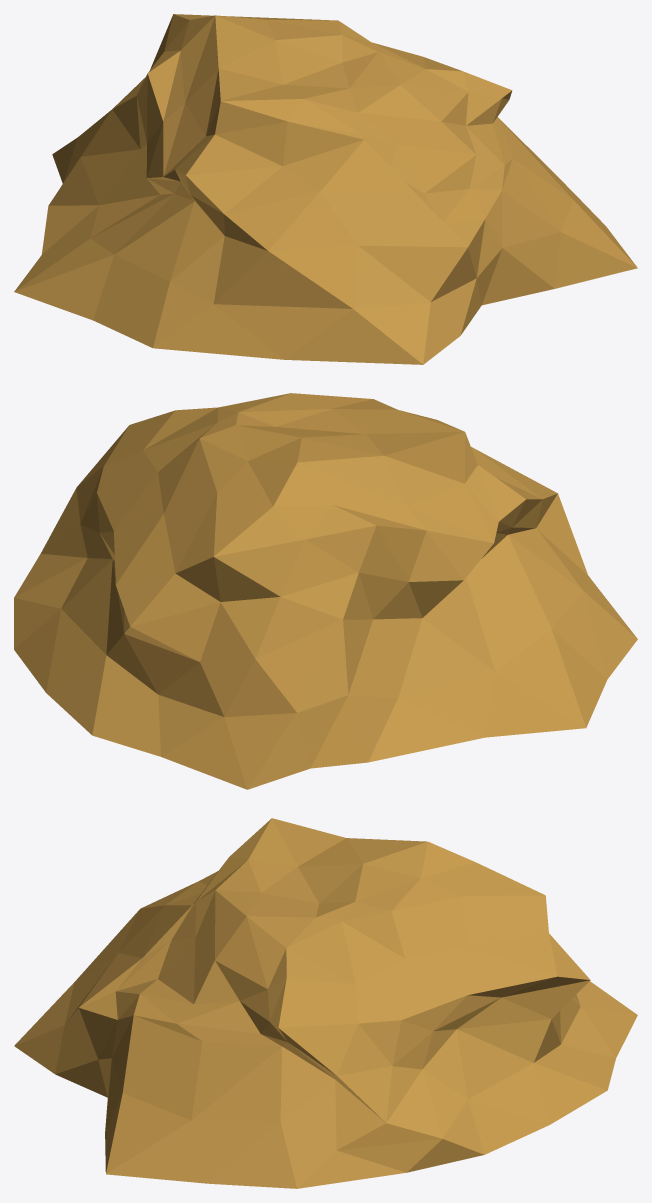
File: GoldPile.fbx
3 renders of one model, top to bottom at view 1: azimuth 30°, elevation 25°; view 2: azimuth 150°, elevation 25°; view 3: azimuth 270°, elevation 25°, orthographic. The views are drawn at different scales.
Parts seen in each view (by area): view 1: GoldPile; view 2: GoldPile; view 3: GoldPile.
Boxes of the visible parts, x1,y1,x2,y2 form: GoldPile: (14, 14, 637, 364); GoldPile: (14, 393, 637, 789); GoldPile: (14, 818, 637, 1188).
Bounding box in the file's own units: 288 × 106 × 295.
Materials: 1 (1 with a texture image).
